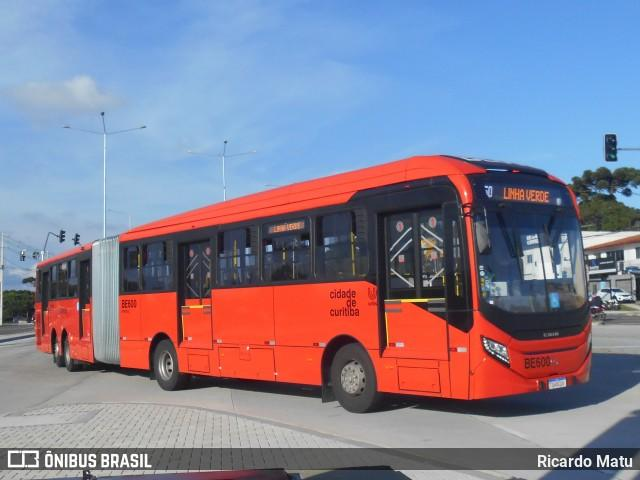LINHA VERDE: (501, 185, 553, 205)
